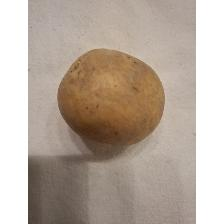Kartoffel: (55, 46, 167, 148)
